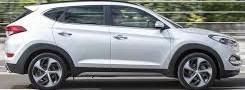Crossovers: (7, 4, 242, 90)
